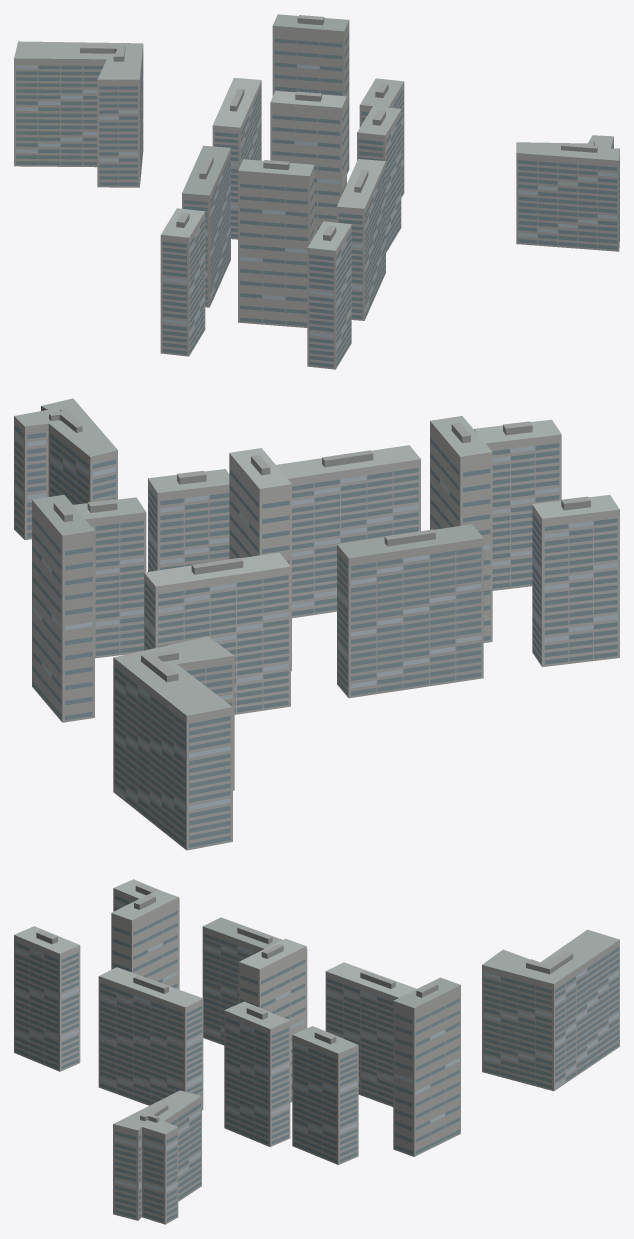
File: apt-a12109001.glb
3 renders of one model, top to bottom at view 1: azimuth 30°, elevation 25°; view 2: azimuth 150°, elevation 25°; view 3: azimuth 270°, elevation 25°, orthographic. The views are drawn at different scales.
Visible parts, largest first — view 1: apt-a12109001; view 2: apt-a12109001; view 3: apt-a12109001.
Boxes of the visible parts, x1=… form: apt-a12109001: x1=14, y1=14, x2=619, y2=369; apt-a12109001: x1=14, y1=398, x2=619, y2=850; apt-a12109001: x1=14, y1=879, x2=619, y2=1224.
Bounding box in the file's own units: 222 × 71 × 249.
